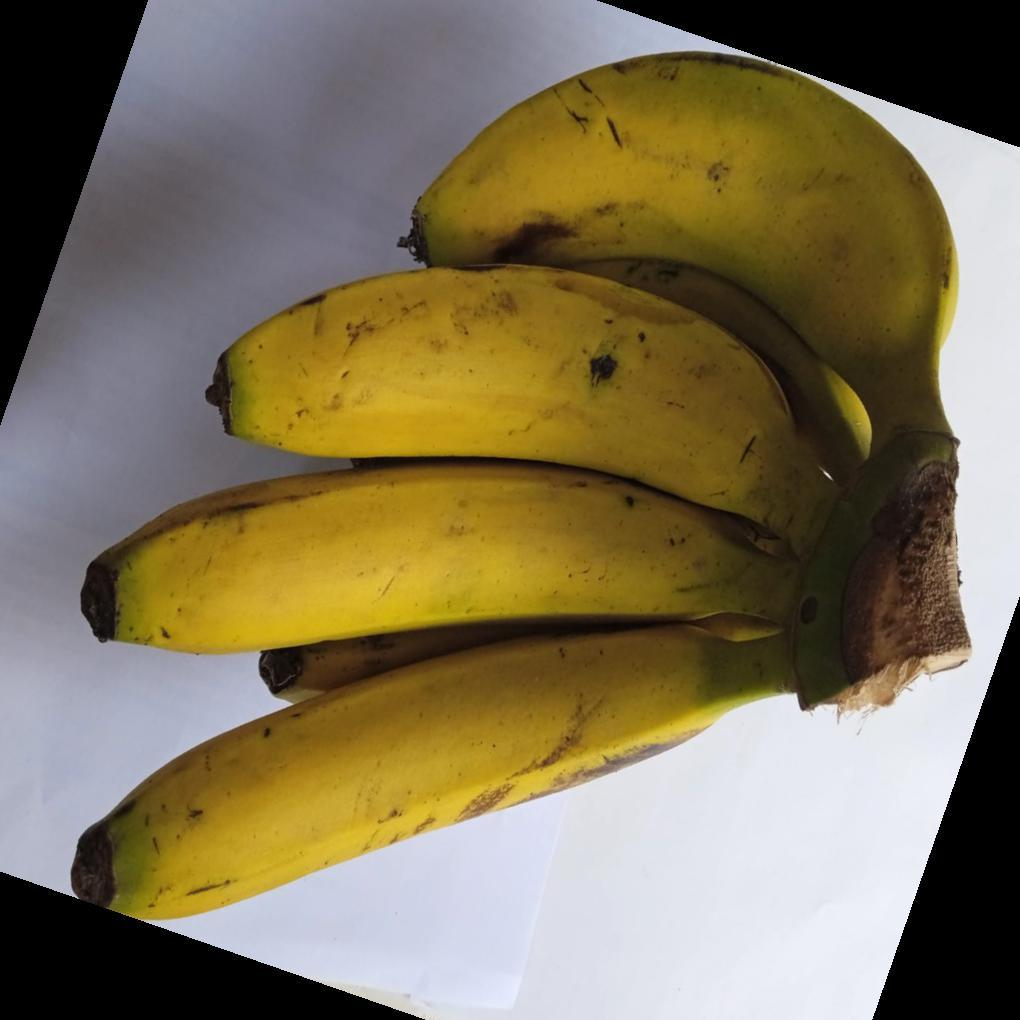Banana Ripe: (153, 44, 1009, 734), (19, 454, 1020, 1010), (182, 161, 959, 547)
